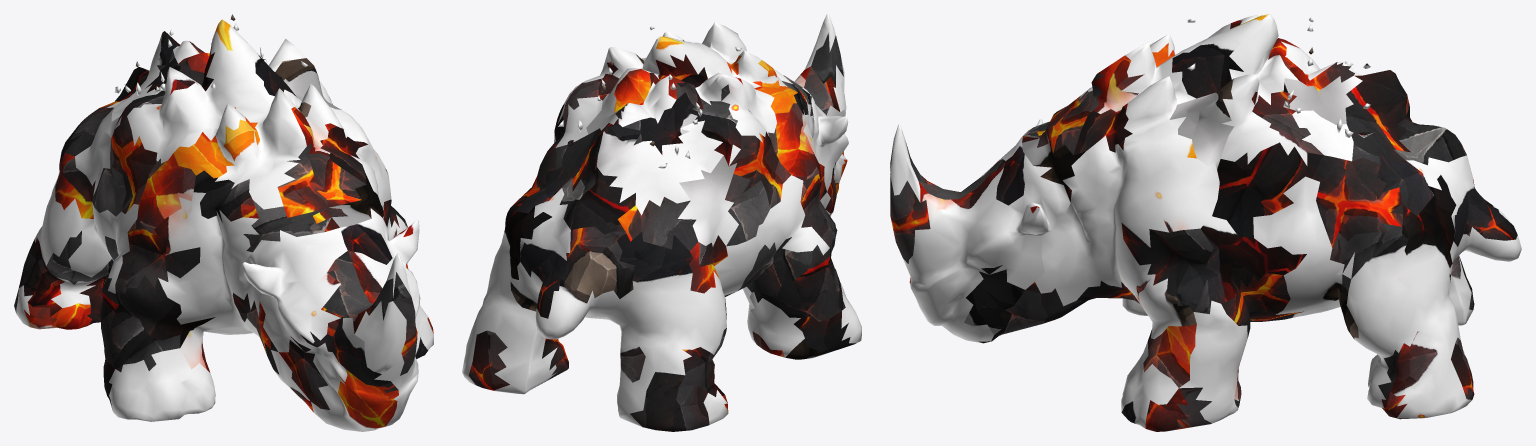
File: molten_rhino_basic_7500tris.fbx
3 renders of one model, left to right at view 1: azimuth 30°, elevation 25°; view 2: azimuth 150°, elevation 25°; view 3: azimuth 270°, elevation 25°, orthographic. The views are drawn at different scales.
Parts seen in each view (by area): view 1: molten_rhino_basic_decimated; view 2: molten_rhino_basic_decimated; view 3: molten_rhino_basic_decimated.
Part boxes in pixels (x1=…): molten_rhino_basic_decimated: x1=14, y1=14, x2=433, y2=431; molten_rhino_basic_decimated: x1=462, y1=14, x2=861, y2=431; molten_rhino_basic_decimated: x1=890, y1=14, x2=1521, y2=431.
Size of the model in its own units: 1.16 by 1.12 by 1.9.
